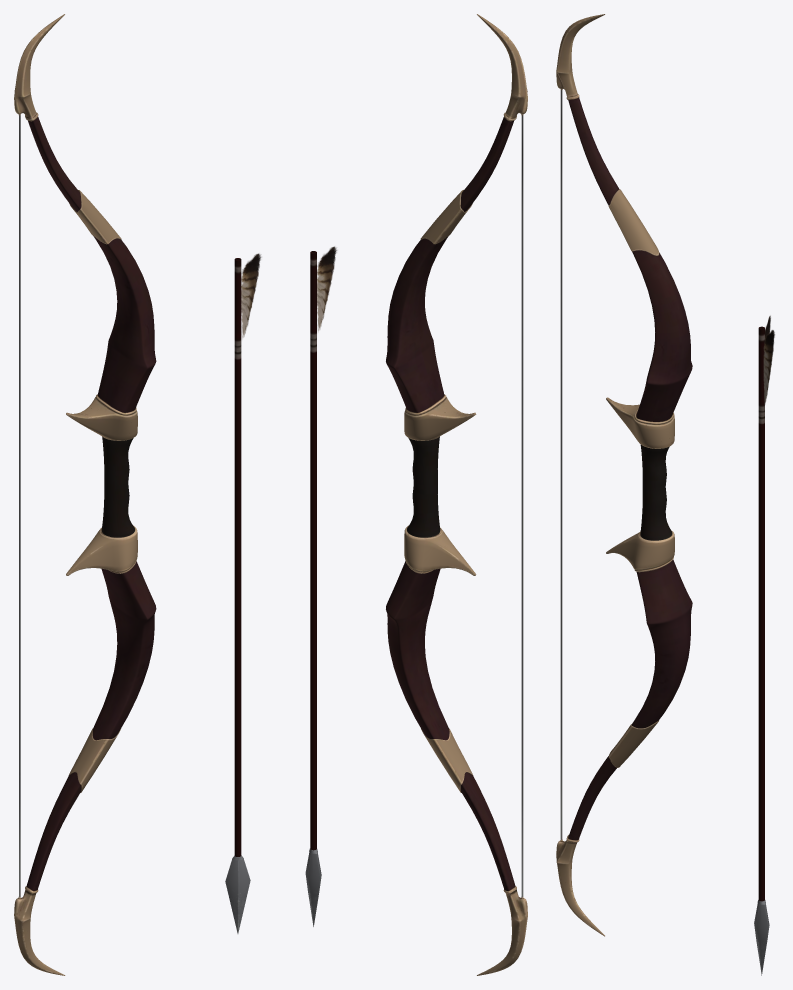
The model's file is bow.glb.
The picture shows the model from 3 angles, left to right: view 1: azimuth 30°, elevation 25°; view 2: azimuth 150°, elevation 25°; view 3: azimuth 330°, elevation 25°; orthographic projection. The views are drawn at different scales.
Parts seen in each view (by area): view 1: bow, arrow.005; view 2: bow, arrow.005; view 3: bow, arrow.005.
Part boxes in pixels (x1=…): bow: x1=14, y1=14, x2=156, y2=975; arrow.005: x1=225, y1=253, x2=261, y2=933; bow: x1=386, y1=14, x2=527, y2=975; arrow.005: x1=305, y1=246, x2=336, y2=926; bow: x1=556, y1=14, x2=692, y2=936; arrow.005: x1=754, y1=315, x2=774, y2=975.
Size of the model in its own units: 0.3129 by 1.19 by 0.0861.
4 materials, 4 textured.
